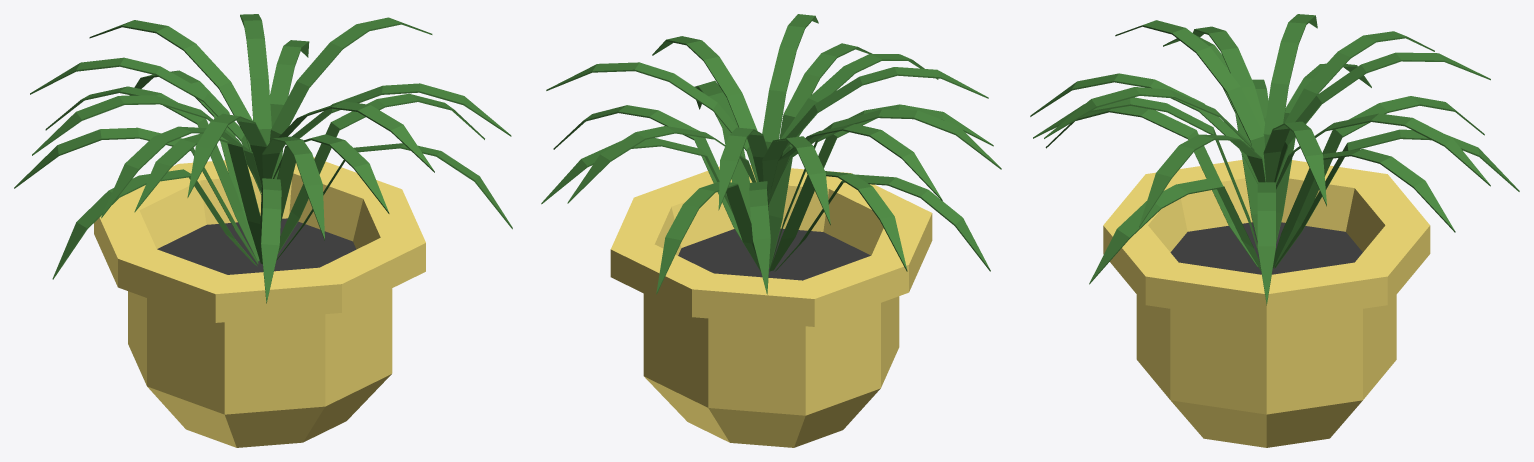
The model's file is Flower_38.fbx.
3 views of the same model, side by side, from view 1: azimuth 30°, elevation 25°; view 2: azimuth 150°, elevation 25°; view 3: azimuth 270°, elevation 25° (orthographic). The views are drawn at different scales.
Parts seen in each view (by area): view 1: Flower_38; view 2: Flower_38; view 3: Flower_38.
Boxes of the visible parts, x1=… form: Flower_38: x1=14, y1=14, x2=512, y2=447; Flower_38: x1=541, y1=14, x2=1001, y2=447; Flower_38: x1=1030, y1=14, x2=1519, y2=447.
Bounding box in the file's own units: 29.62 × 28.51 × 21.87.
